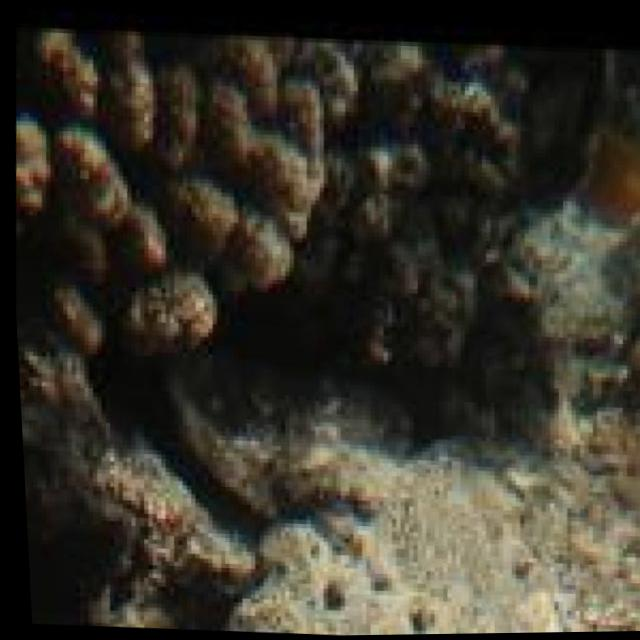Dead Coral: (3, 25, 513, 389)
